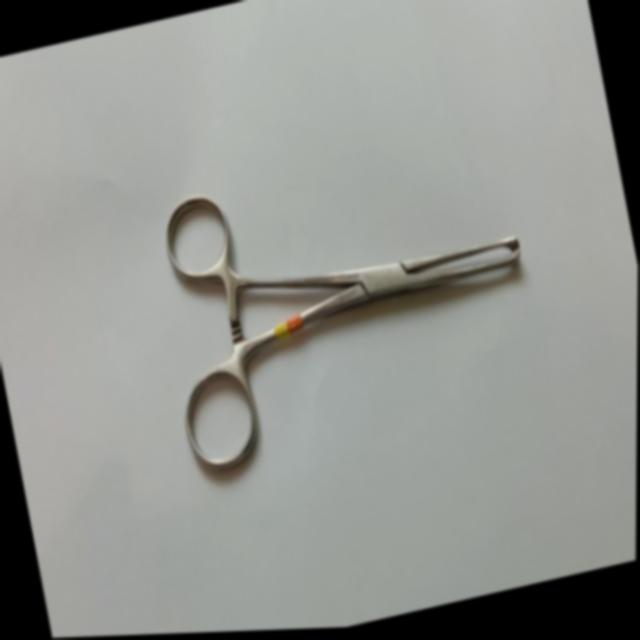AllisForcep: (141, 125, 552, 483)
